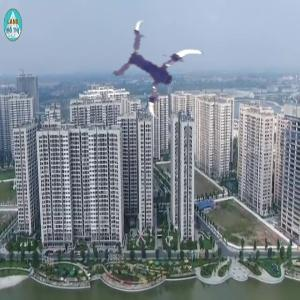drone: (113, 27, 206, 120)
